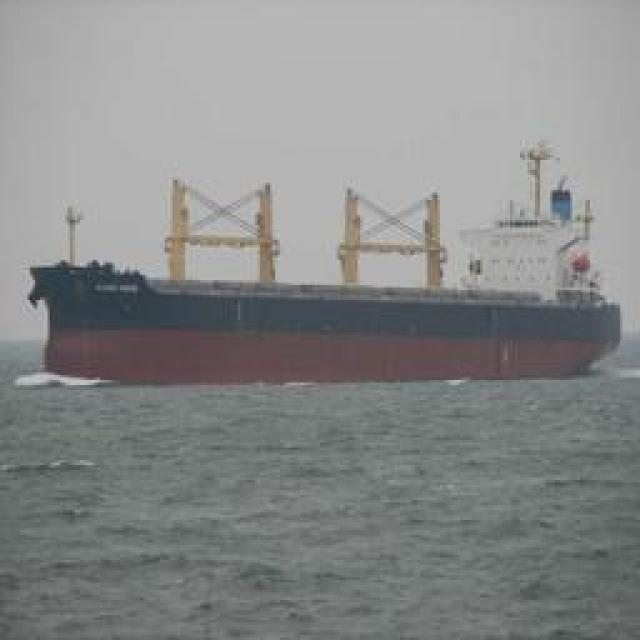Ship: (22, 145, 625, 390)
